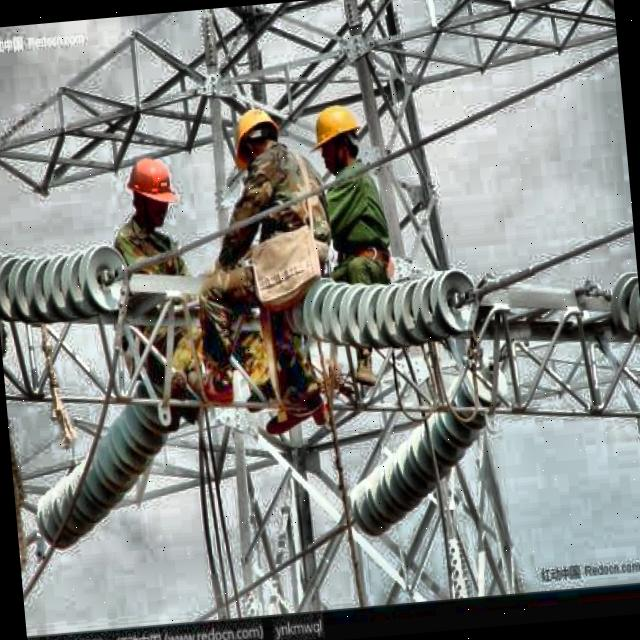helmet: (309, 98, 366, 177), (123, 151, 178, 229), (230, 103, 288, 171)
